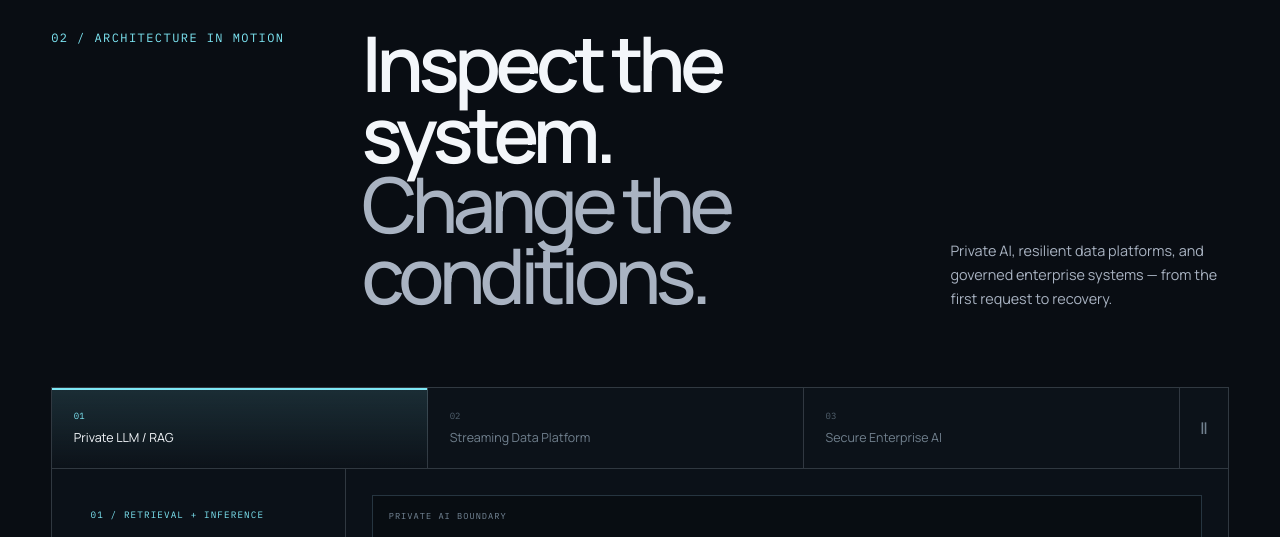
Architecture presentation › keeps the playback control mounted and focused when resuming
Click the tab "02 Streaming Data Platform": {"x": 520, "y": 438} [428,388,804,468]
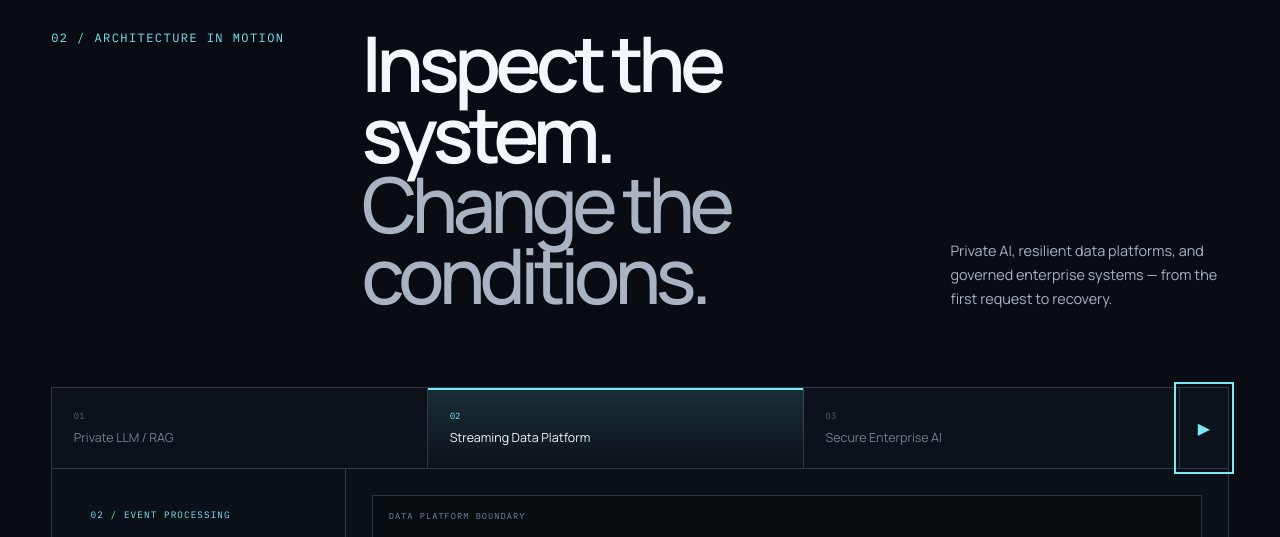
Click the button named "Resume architecture presentation": {"x": 1204, "y": 428} [1180,388,1228,468]
Wait 3200 ms
(page scrolled)
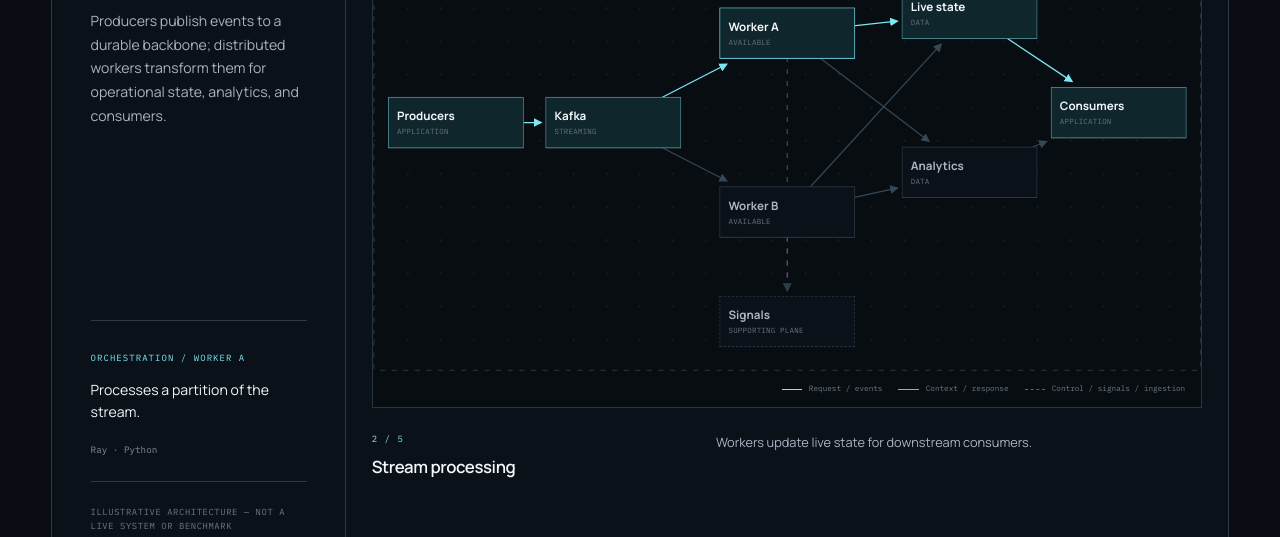
Expected: the heading "Stream processing" is shown, [372,455,515,478]
